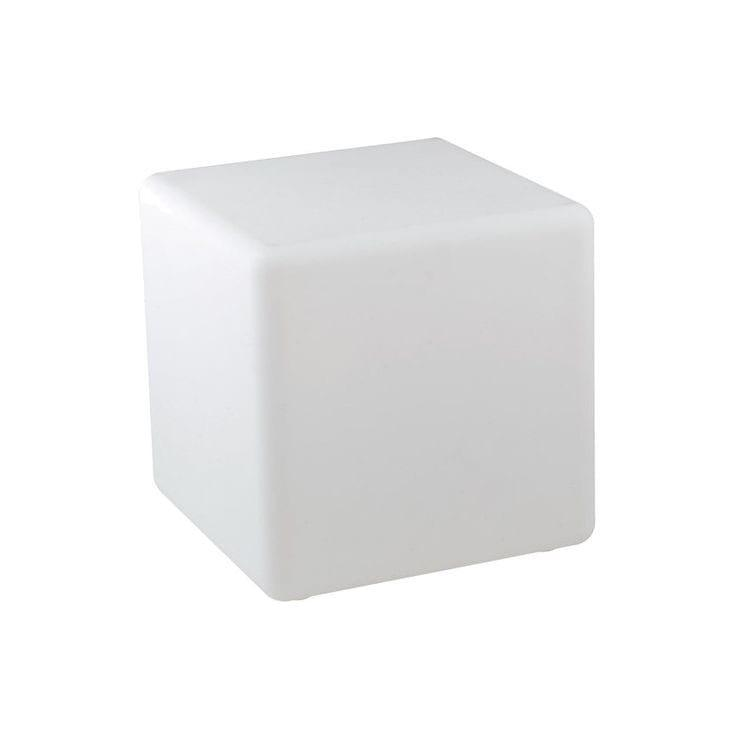cubos: (135, 127, 642, 608)
